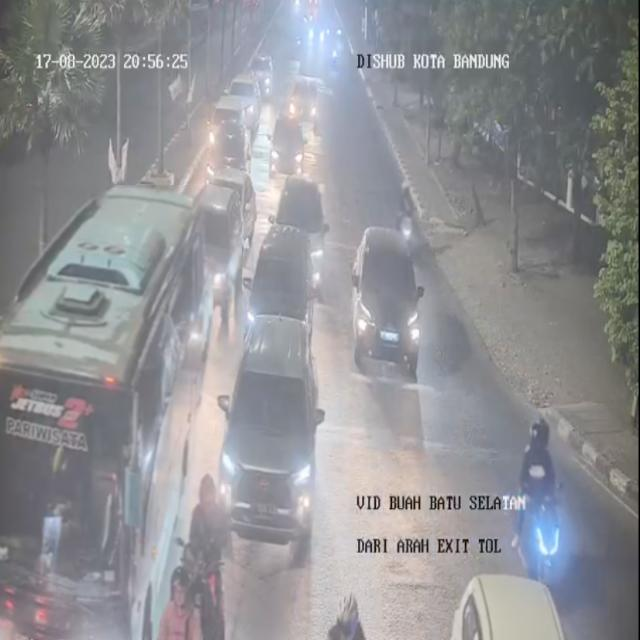bus: (0, 186, 213, 638)
cars: (215, 315, 324, 568), (351, 216, 424, 367), (242, 218, 316, 364), (455, 564, 579, 640), (190, 185, 242, 317), (274, 170, 329, 291), (210, 116, 257, 221), (272, 111, 303, 181), (288, 74, 320, 136), (232, 73, 262, 127)
motorcycle: (512, 408, 572, 587), (181, 484, 231, 629), (160, 563, 203, 640), (329, 585, 372, 640), (391, 180, 417, 256)
